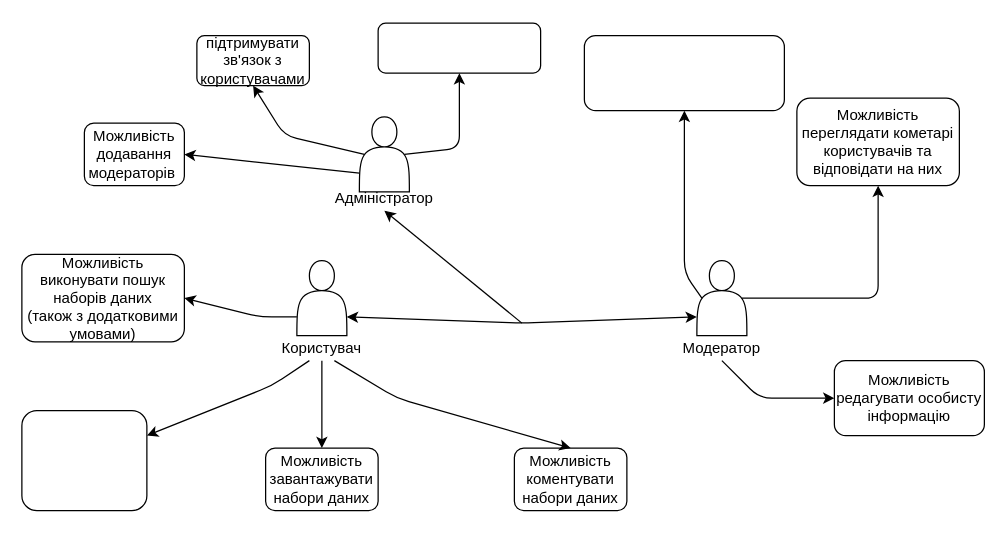
Some shapes in this 1006 by 533 pixel diagram are drawn without their labels. Here are the shapes that lost their labels. From the top down, the box of each, then its label:
(377, 22, 541, 73): Можливість вирішення питання оприлюднення даних
(583, 34, 784, 111): Можливість додавання нових наборів даних, редактувати існуючі, видаляти дані
(21, 409, 147, 511): Можливість переглядання загальної статистики по наборам даних
